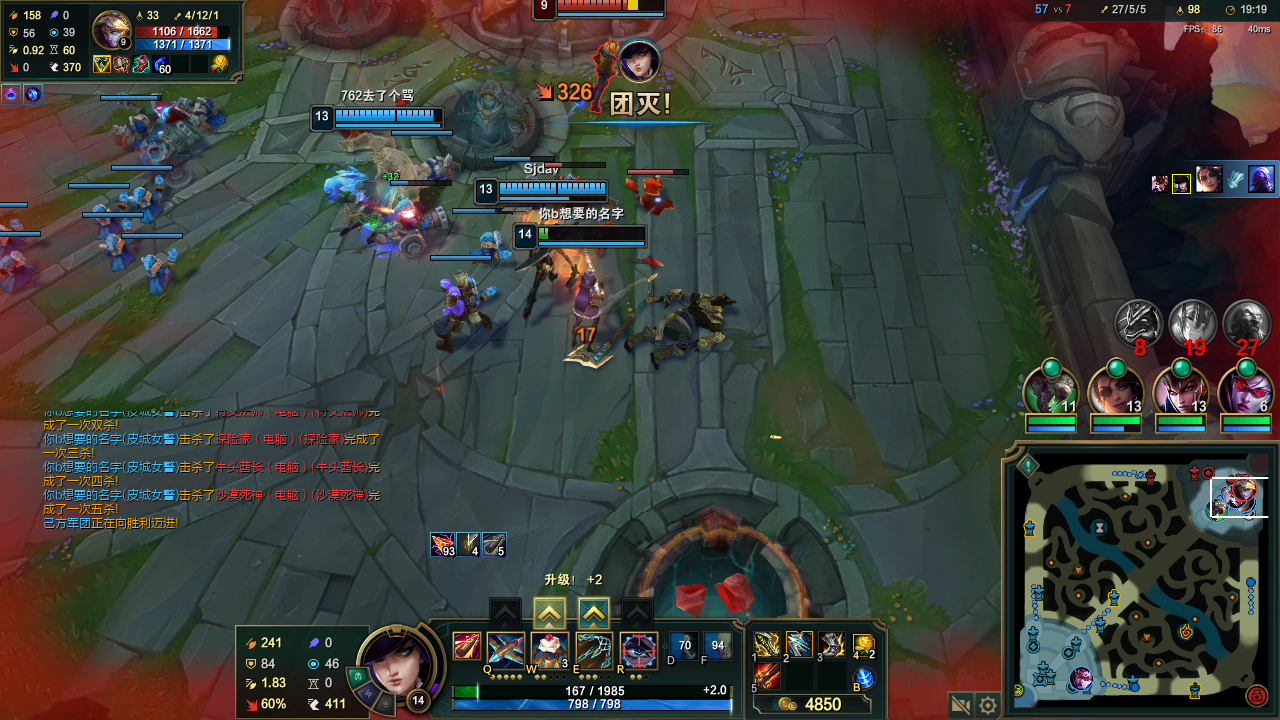DFXB: (632, 175, 670, 214)
DFYX: (548, 1, 654, 16)
Shenji: (582, 603, 609, 627)
Tuijianshengji: (532, 600, 561, 626)
WFXB: (388, 204, 450, 250), (120, 177, 171, 222), (91, 201, 137, 242), (104, 233, 141, 278), (109, 108, 151, 143), (476, 229, 515, 265), (143, 255, 178, 292), (5, 258, 37, 292)
